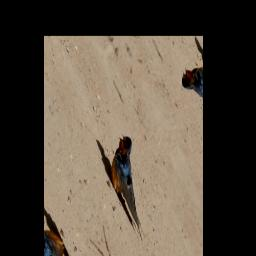Swallow: (100, 129, 166, 243)
